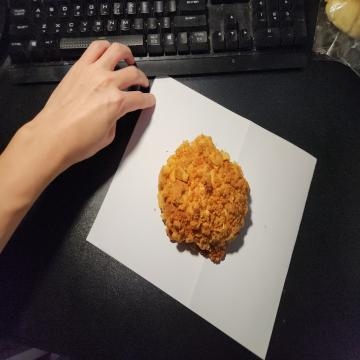soboru_bread: (159, 134, 251, 270)
